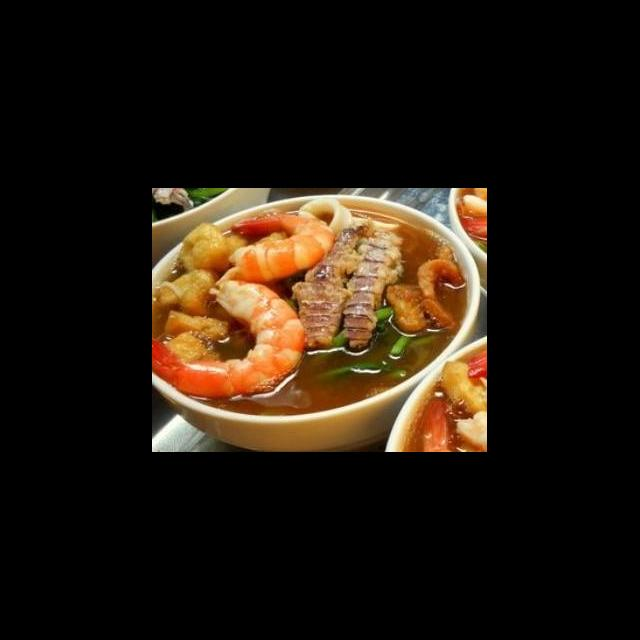ca: (412, 255, 468, 334), (384, 280, 439, 336)
dau hu: (174, 218, 250, 281), (160, 309, 236, 370), (154, 265, 222, 318)
muc: (296, 195, 356, 242)
tom: (153, 274, 310, 402), (220, 209, 338, 288)
tom tit: (288, 224, 366, 352), (339, 223, 406, 356)
